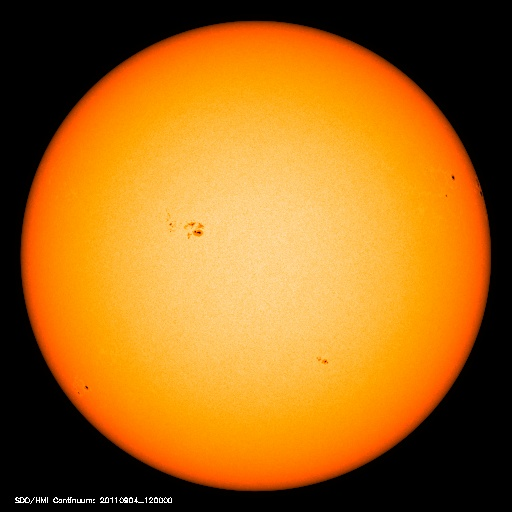sunspot: (158, 202, 208, 245), (433, 165, 460, 205), (307, 346, 338, 373), (468, 171, 490, 205), (73, 377, 96, 401)
